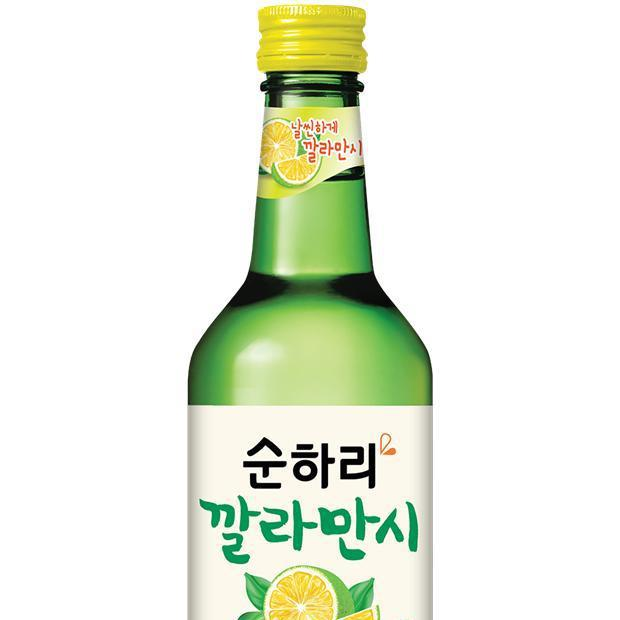soju: (176, 5, 441, 620)
